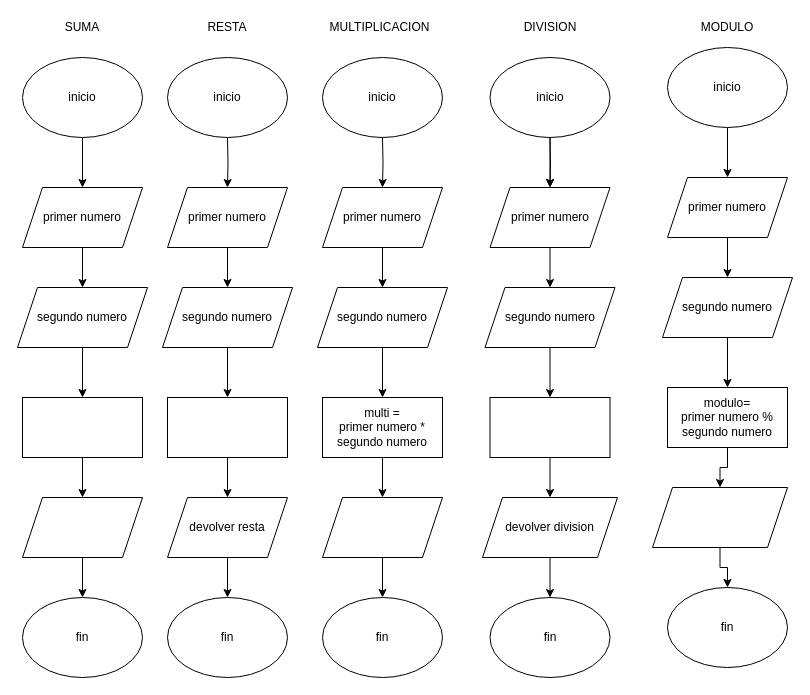
Image size: 810x695. Some labels were removed from this diagram. The box of each missing label's shape, as (x1, y1, x2, y2) in pixels:
devolver modulo: (652, 486, 788, 548)
devolver multi: (322, 496, 442, 558)
devolver suma: (22, 496, 142, 558)
division = primer numero / segundo numero: (489, 396, 610, 458)
resta = primer numero - segundo numero: (166, 396, 288, 458)
suma = primer numero + segundo numero: (22, 396, 142, 458)
